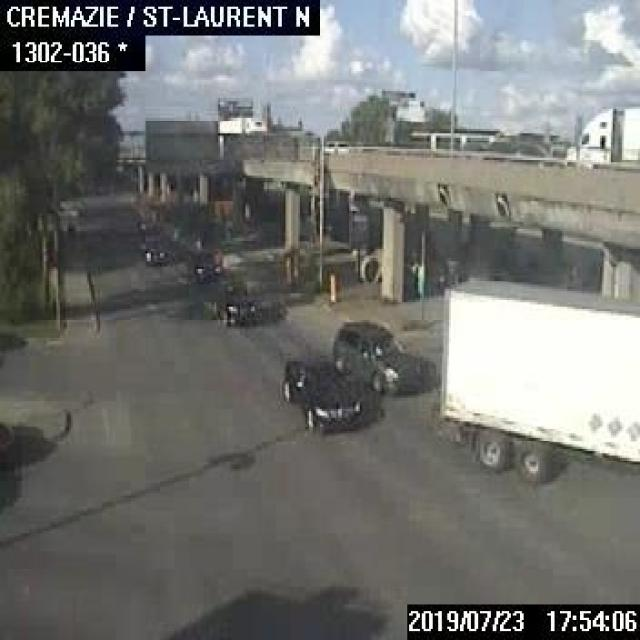construction: (327, 269, 335, 300)
vehicle: (436, 276, 638, 478), (328, 319, 428, 394), (284, 353, 364, 429), (562, 100, 638, 160), (199, 265, 262, 325), (187, 250, 221, 282), (137, 228, 169, 262), (217, 113, 266, 131), (322, 136, 347, 146)
